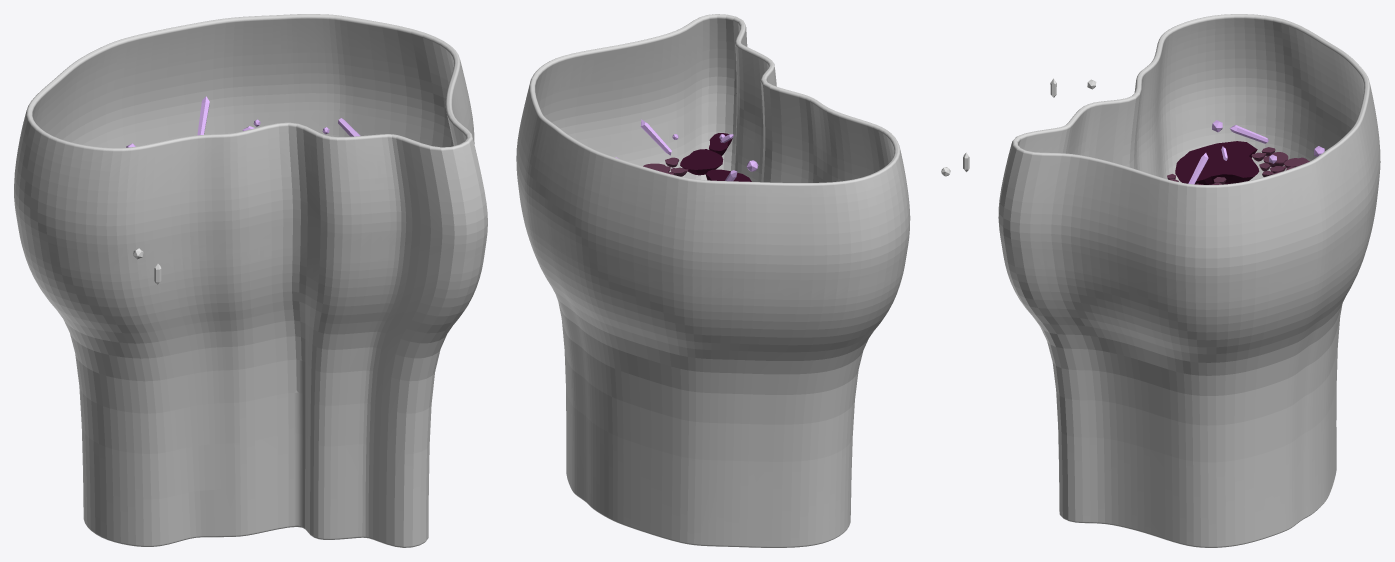
The model's file is BrainMaze_Concept1.fbx.
The picture shows the model from 3 angles, left to right: view 1: azimuth 30°, elevation 25°; view 2: azimuth 150°, elevation 25°; view 3: azimuth 270°, elevation 25°; orthographic projection. The views are drawn at different scales.
Parts seen in each view (by area): view 1: Walls; view 2: Walls, Medula; view 3: Walls, Frontal Lobe.
Boxes of the visible parts, box(x1,y1,x2,y2) form: Walls: box(14, 14, 487, 547); Walls: box(516, 14, 910, 547); Medula: box(680, 149, 723, 175); Walls: box(998, 14, 1380, 547); Frontal Lobe: box(1175, 141, 1259, 184).
Bounding box in the file's own units: 124 × 118 × 107.
